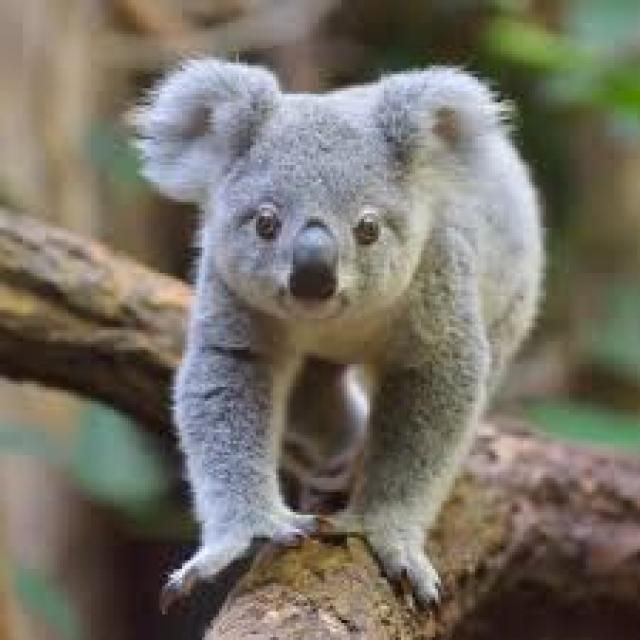Koala: (120, 46, 548, 616)
